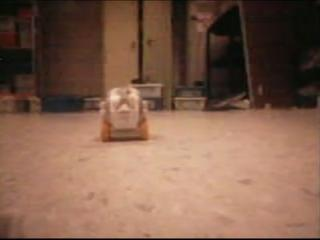cozmo: (98, 85, 149, 142)
